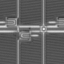dust: (28, 27, 31, 29)
